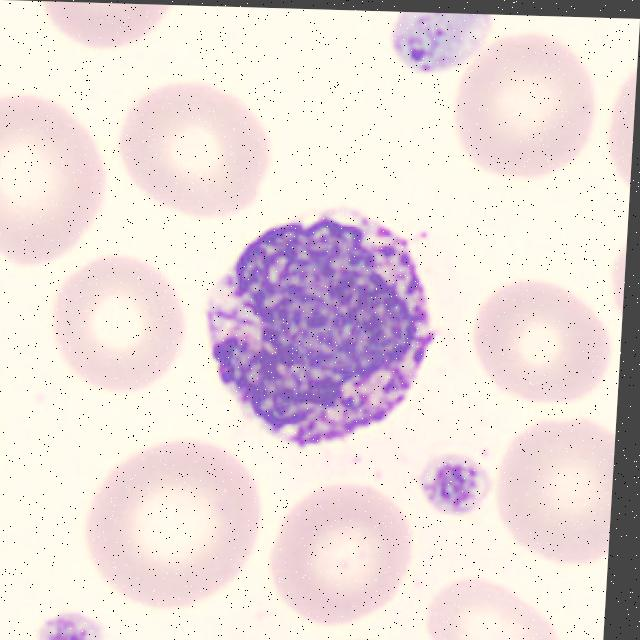basophil: (185, 207, 452, 452)
platelets: (384, 12, 499, 75), (415, 446, 498, 518), (26, 597, 125, 640)
rbc: (72, 439, 275, 614), (115, 76, 282, 218), (268, 481, 420, 623), (0, 81, 115, 268), (467, 269, 624, 403), (49, 248, 190, 392), (484, 415, 616, 568), (463, 45, 599, 184), (424, 566, 569, 640), (31, 1, 194, 49), (602, 57, 638, 199), (605, 206, 629, 330), (0, 350, 9, 507)
